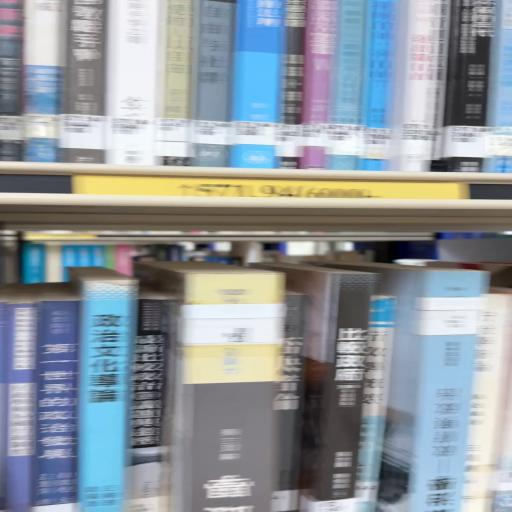reverse: (164, 264, 285, 512), (369, 265, 489, 512)
